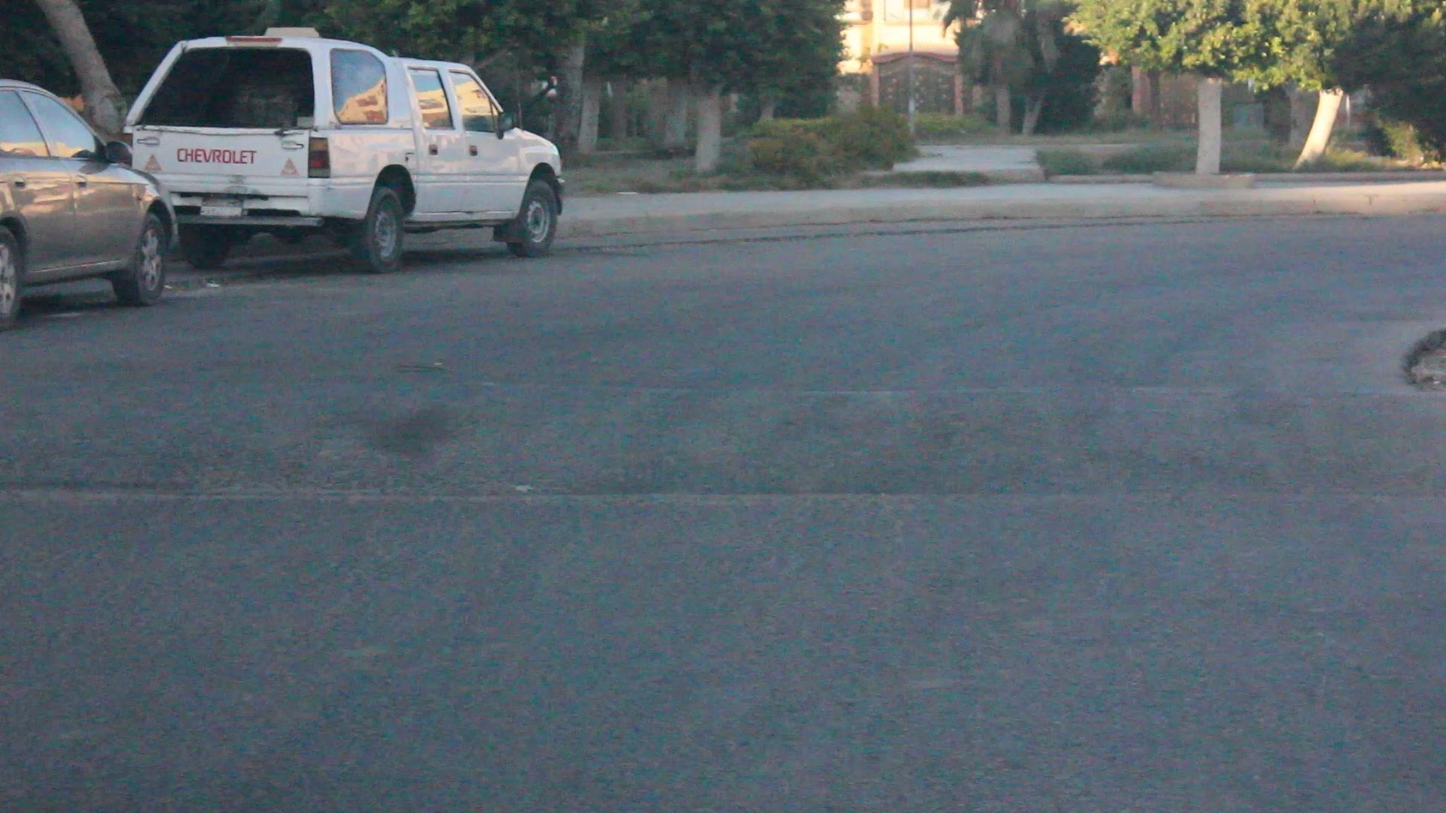Bump: (1, 369, 1445, 493)
